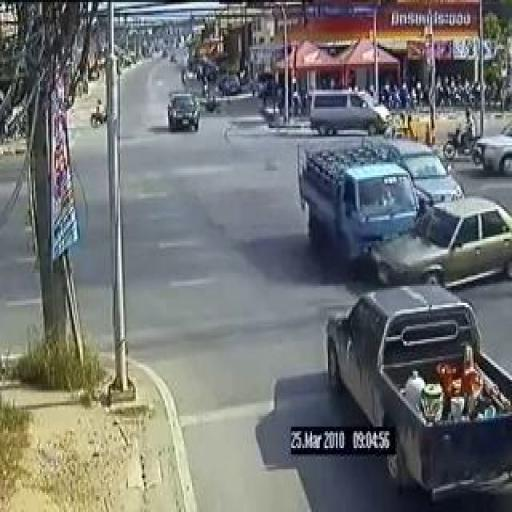Car: (339, 295, 512, 491), (294, 140, 418, 254), (381, 205, 511, 289), (394, 139, 462, 202), (312, 93, 390, 133), (481, 126, 512, 174), (167, 90, 199, 132)
Major Accident: (296, 144, 510, 292)
Motor: (448, 111, 482, 161)
